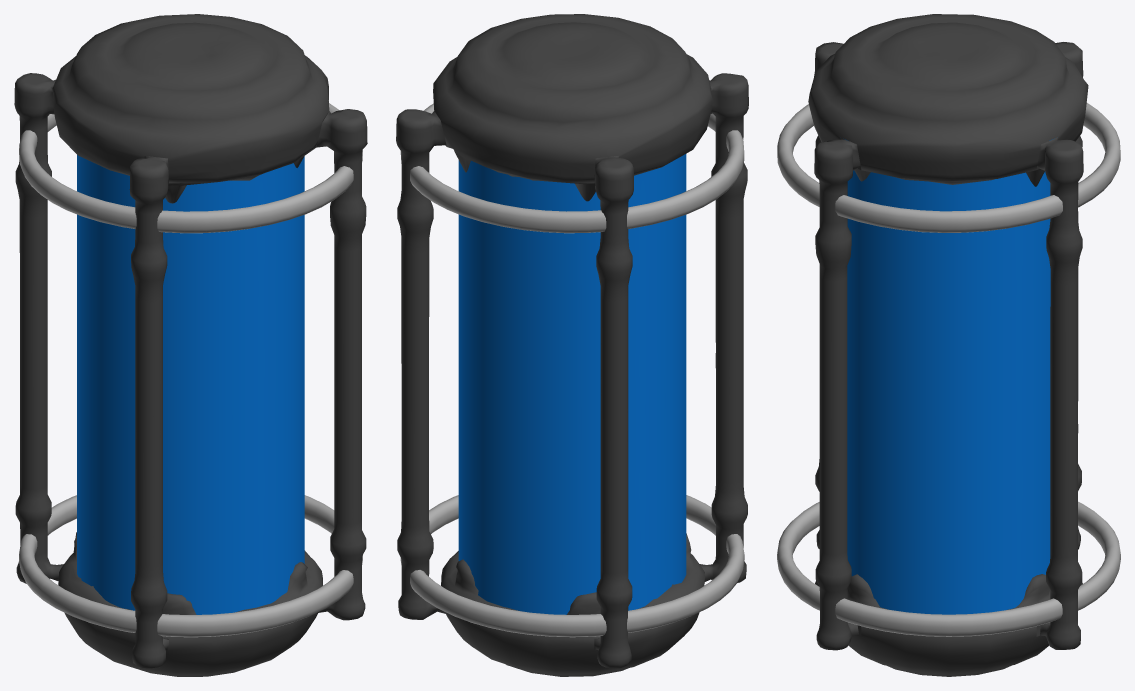
3 views of the same model, side by side, from view 1: azimuth 30°, elevation 25°; view 2: azimuth 150°, elevation 25°; view 3: azimuth 270°, elevation 25° (orthographic).
Parts seen in each view (by area): view 1: Capsule; view 2: Capsule; view 3: Capsule.
Boxes of the visible parts, x1,y1,x2,y2 form: Capsule: (14, 14, 367, 676); Capsule: (396, 14, 748, 676); Capsule: (777, 14, 1120, 676).
Bounding box in the file's own units: 886 × 1717 × 886.
